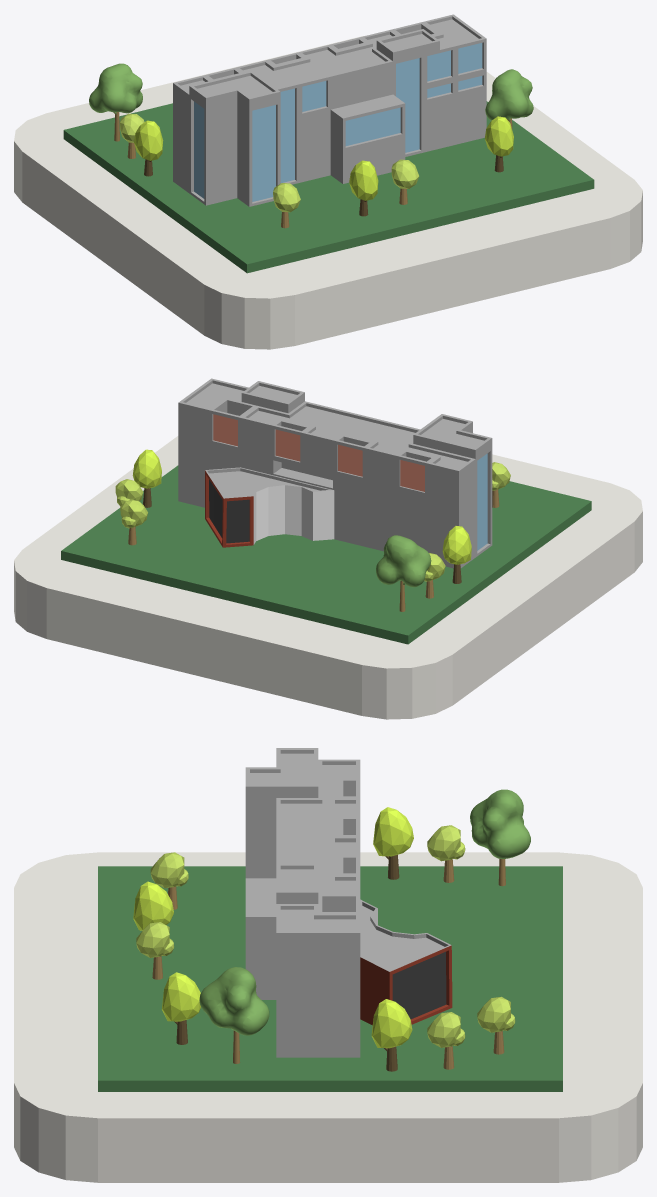
3 renders of one model, top to bottom at view 1: azimuth 30°, elevation 25°; view 2: azimuth 150°, elevation 25°; view 3: azimuth 270°, elevation 25°, orthographic. The views are drawn at different scales.
Visible parts, largest first — view 1: Cube, 文學院1, 底板.002, Cylinder.118, Cylinder.135, Cylinder.298, Cylinder.218, Cylinder.212, Cylinder.009, Cylinder.086, Cylinder.053; view 2: Cube, 文學院1, 底板.002, Cylinder.118, Cylinder.218, Cylinder.209, Cylinder.095, Cylinder.086, Cylinder.092, Cylinder.053; view 3: Cube, 底板.002, 文學院1, Cylinder.135, Cylinder.118, Cylinder.218, Cylinder.209, Cylinder.212, Cylinder.298, Cylinder.095, Cylinder.009, Cylinder.053 (+2 smaller).
Boxes of the visible parts, x1=… form: Cube: x1=14, y1=35, x2=642, y2=349; 文學院1: x1=173, y1=14, x2=486, y2=206; 底板.002: x1=63, y1=101, x2=594, y2=273; Cylinder.118: x1=89, y1=63, x2=142, y2=141; Cylinder.135: x1=485, y1=69, x2=533, y2=129; Cylinder.298: x1=349, y1=160, x2=378, y2=216; Cylinder.218: x1=134, y1=120, x2=163, y2=176; Cylinder.212: x1=484, y1=116, x2=513, y2=172; Cylinder.009: x1=391, y1=159, x2=419, y2=204; Cylinder.086: x1=273, y1=183, x2=300, y2=228; Cylinder.053: x1=120, y1=113, x2=144, y2=158; Cube: x1=14, y1=436, x2=642, y2=719; 文學院1: x1=178, y1=378, x2=492, y2=568; 底板.002: x1=61, y1=465, x2=591, y2=644; Cylinder.118: x1=376, y1=535, x2=431, y2=611; Cylinder.218: x1=442, y1=526, x2=471, y2=583; Cylinder.209: x1=132, y1=449, x2=161, y2=507; Cylinder.095: x1=120, y1=499, x2=147, y2=545; Cylinder.086: x1=492, y1=462, x2=510, y2=507; Cylinder.092: x1=115, y1=479, x2=143, y2=506; Cylinder.053: x1=424, y1=553, x2=445, y2=598; Cube: x1=14, y1=852, x2=642, y2=1182; 底板.002: x1=98, y1=866, x2=562, y2=1091; 文學院1: x1=245, y1=748, x2=452, y2=1057; Cylinder.135: x1=199, y1=967, x2=269, y2=1063; Cylinder.118: x1=470, y1=789, x2=530, y2=886; Cylinder.218: x1=373, y1=807, x2=413, y2=879; Cylinder.209: x1=371, y1=999, x2=412, y2=1071; Cylinder.212: x1=161, y1=972, x2=200, y2=1044; Cylinder.298: x1=133, y1=881, x2=173, y2=930; Cylinder.095: x1=477, y1=996, x2=515, y2=1054; Cylinder.009: x1=136, y1=922, x2=174, y2=979; Cylinder.053: x1=427, y1=825, x2=465, y2=882.
Bounding box in the file's own units: 15 × 5.62 × 15.
